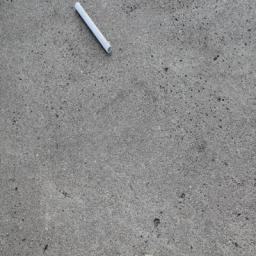FOD: (72, 2, 116, 55)
